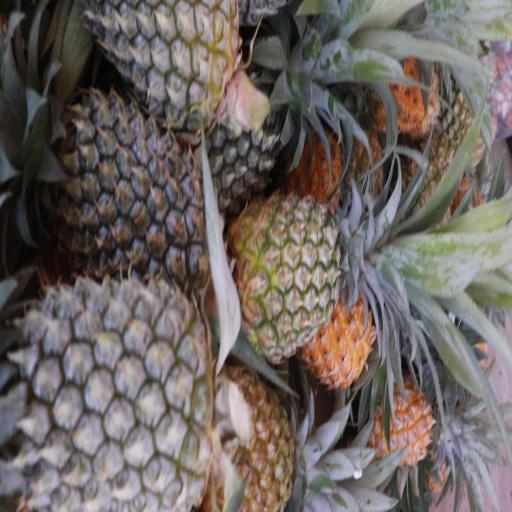------------------------------: (227, 199, 346, 359), (212, 381, 302, 509)
Pineapple - v8 v1: (305, 280, 375, 391), (368, 383, 437, 465)
